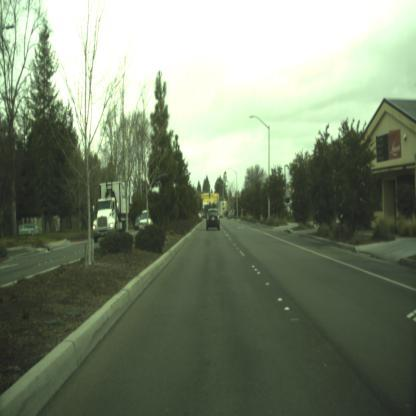Green: (208, 191, 210, 198), (223, 202, 224, 206), (227, 201, 228, 204)
